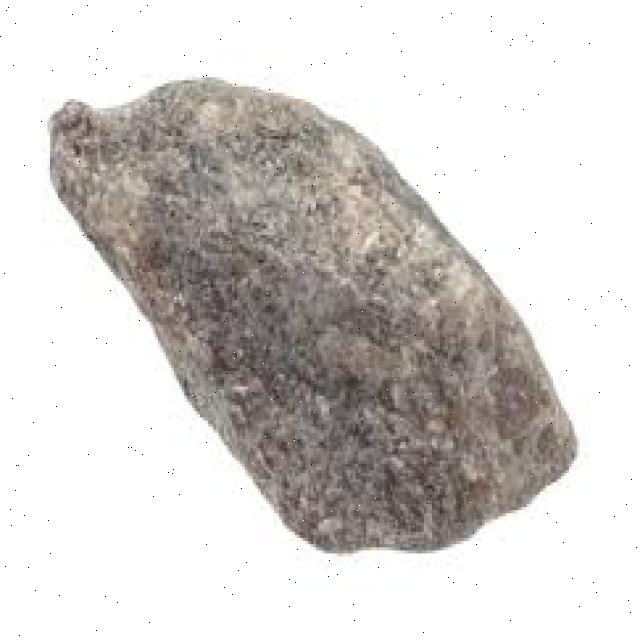Metamorphic: (50, 71, 582, 560)
